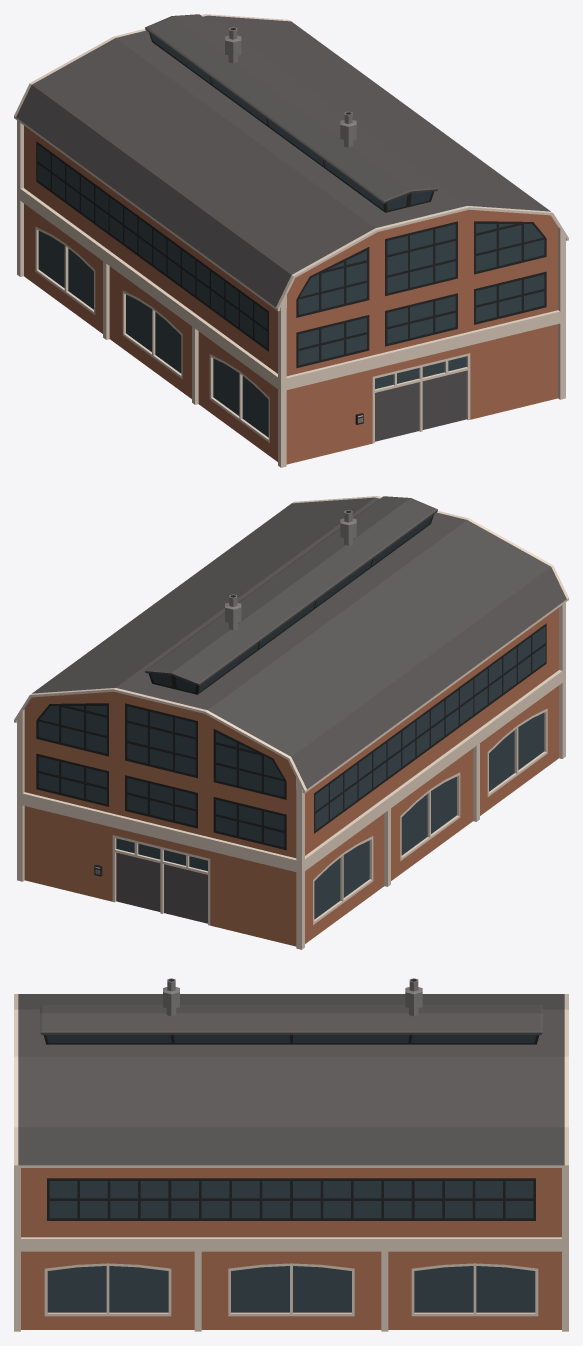
The model's file is buildings_industry-factory-hall.fbx.
3 renders of one model, top to bottom at view 1: azimuth 30°, elevation 25°; view 2: azimuth 150°, elevation 25°; view 3: azimuth 270°, elevation 25°, orthographic. The views are drawn at different scales.
Parts seen in each view (by area): view 1: buildings_industry_factory_hall; view 2: buildings_industry_factory_hall; view 3: buildings_industry_factory_hall.
Boxes of the visible parts, x1,y1,x2,y2 form: buildings_industry_factory_hall: [14, 14, 568, 467]; buildings_industry_factory_hall: [14, 496, 568, 949]; buildings_industry_factory_hall: [14, 978, 568, 1331].
Size of the model in its own units: 127 by 111 by 200.
